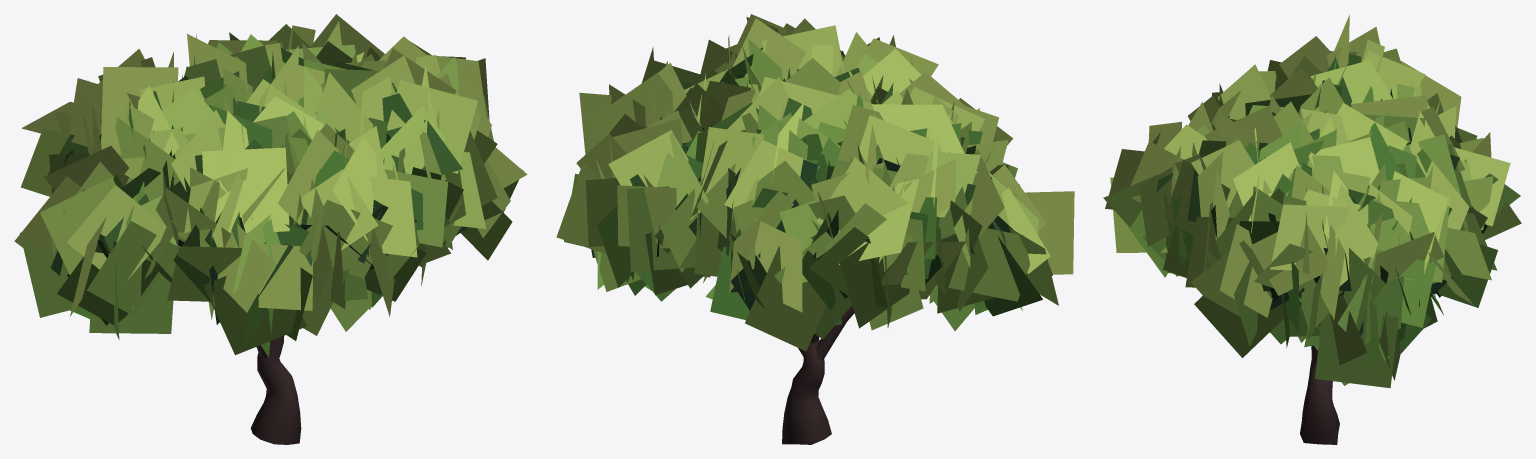
The model's file is CherryLeaf.fbx.
3 views of the same model, side by side, from view 1: azimuth 30°, elevation 25°; view 2: azimuth 150°, elevation 25°; view 3: azimuth 270°, elevation 25° (orthographic). The views are drawn at different scales.
Parts seen in each view (by area): view 1: CherryLeaf; view 2: CherryLeaf; view 3: CherryLeaf.
Boxes of the visible parts, x1,y1,x2,y2 form: CherryLeaf: (14, 14, 527, 444); CherryLeaf: (556, 14, 1074, 444); CherryLeaf: (1103, 15, 1521, 444).
Size of the model in its own units: 9.47 by 7.53 by 8.04.
